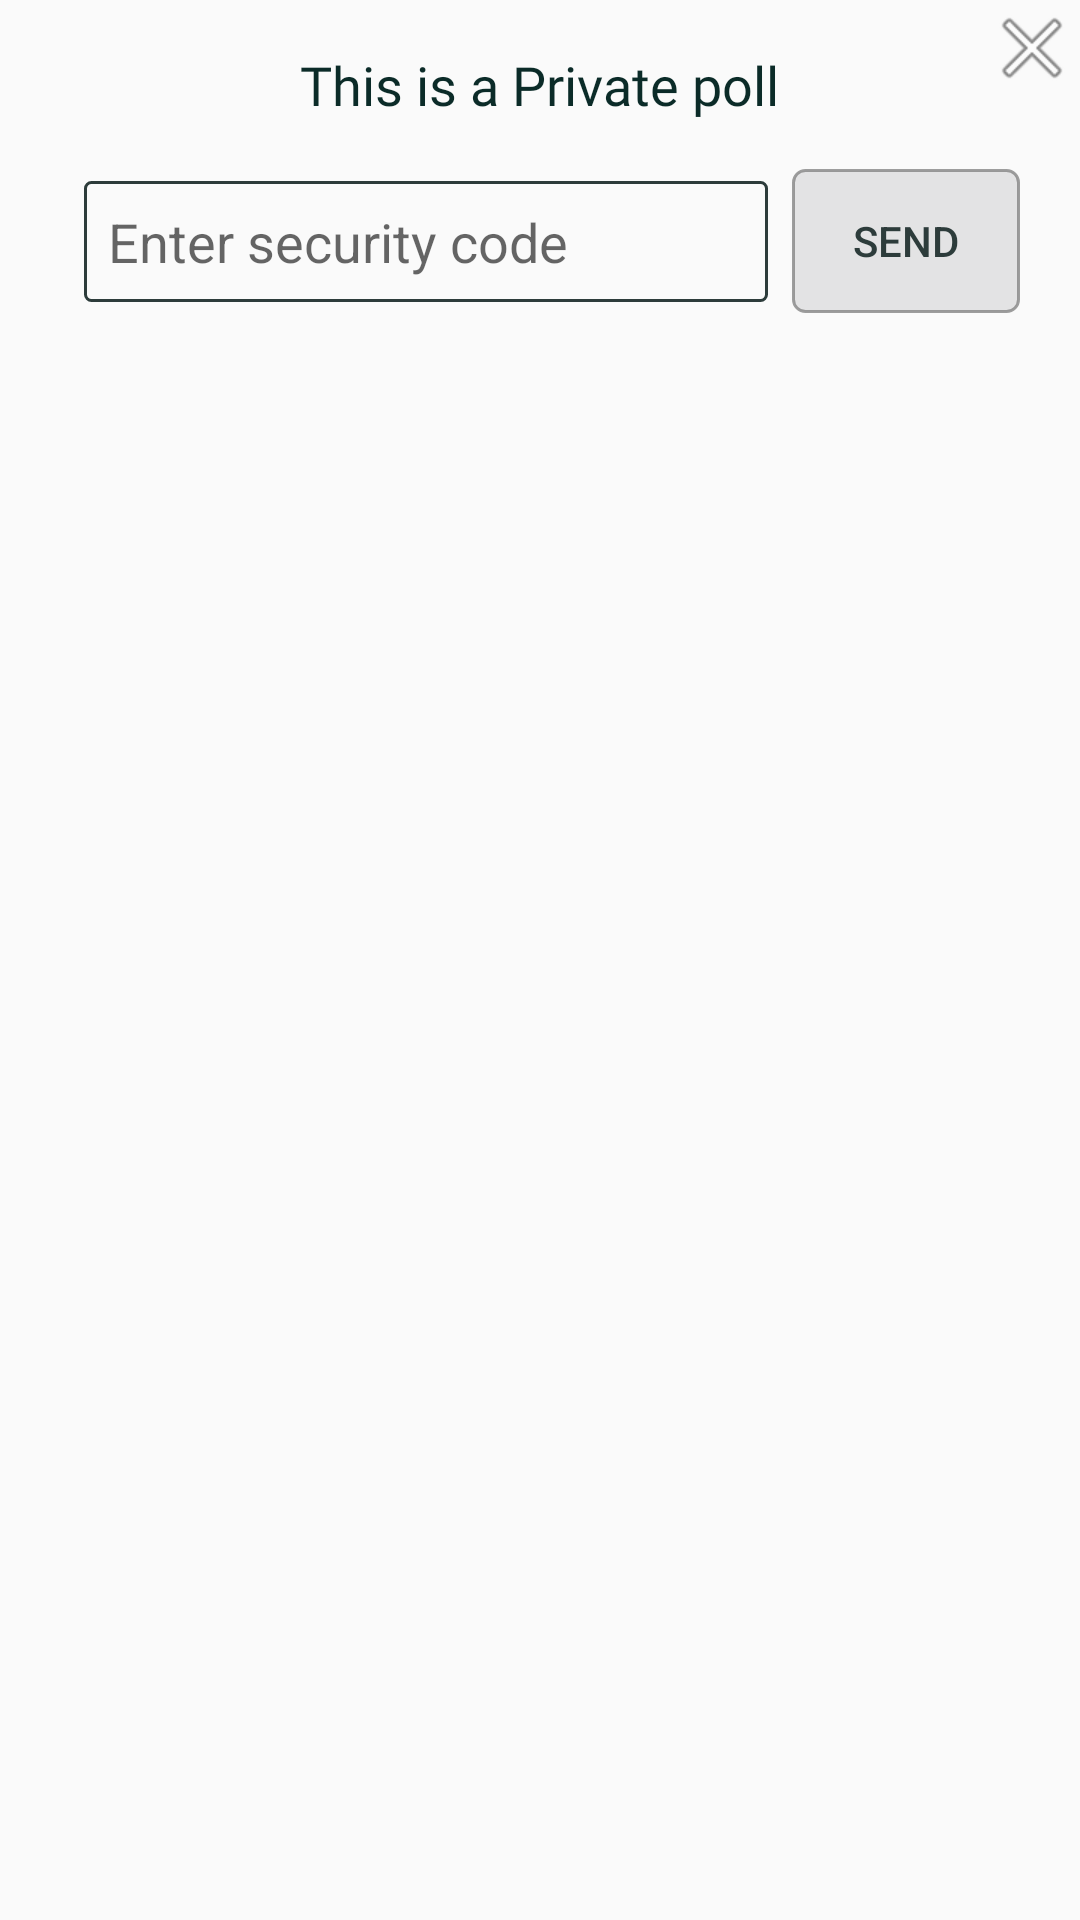

Icon click points for this 1080px x 1920px phone screenshot, format [x,y]:
close clear cancel: [1032,48]
